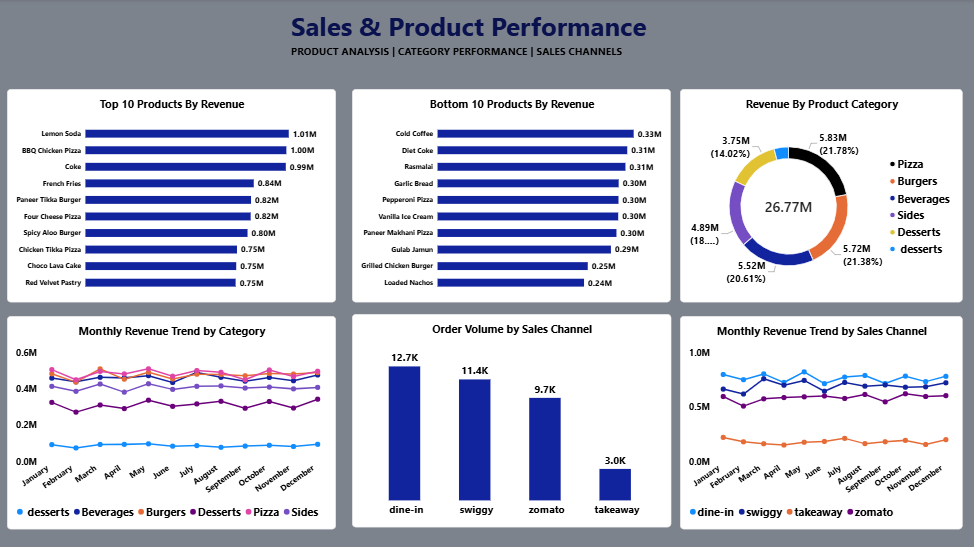

The page's visual inventory and layout, read from the dashboard file:
{"tool":"powerbi","page":{"name":"Sales & Product Analysis","canvas":[1920,1080],"ordinal":1},"visuals":[{"type":"clusteredBarChart","title":"Top 10 Products By Revenue","fields":{"Category":["products.product_name"],"Y":["order_items.Product Revenue"]},"box":[17.6,176.3,645.8,418.8],"z":0},{"type":"clusteredBarChart","title":"Bottom 10 Products By Revenue","fields":{"Category":["products.product_name"],"Y":["order_items.Product Revenue"]},"box":[694.3,176.3,626,418.8],"z":1000},{"type":"donutChart","title":"Revenue By Product Category","fields":{"Category":["products.category"],"Y":["order_items.Product Revenue"]},"box":[1340.1,176.3,555.4,418.8],"z":2000},{"type":"lineChart","title":"Monthly Revenue Trend by Category","fields":{"Category":["Calendar.Date.Variation.Date Hierarchy.Month"],"Series":["products.category"],"Y":["order_items.Product Revenue"]},"box":[17.6,621.6,646,419],"z":3000},{"type":"clusteredColumnChart","title":"Order Volume by Sales Channel","fields":{"Category":["orders.sales_channel"],"Y":["orders.Total Orders"]},"box":[694.3,619.3,627,419],"z":4000},{"type":"lineChart","title":"Monthly Revenue Trend by Sales Channel","fields":{"Category":["Calendar.Date.Variation.Date Hierarchy.Month"],"Series":["orders.sales_channel"],"Y":["orders.Total Revenue"]},"box":[1340.1,621.6,555,419],"z":5000},{"type":"textbox","title":"Sales & Product Performance","box":[575.4,17.6,769.2,97],"z":6000}]}

Visuals, with their boxes in screenshot pixels (x1, y1, x2, y2), scaled from the page's 1920x1080 canvas onto the 974x547 screenshot:
"Top 10 Products By Revenue" clusteredBarChart: [left=9, top=89, right=337, bottom=301]
"Bottom 10 Products By Revenue" clusteredBarChart: [left=352, top=89, right=670, bottom=301]
"Revenue By Product Category" donutChart: [left=680, top=89, right=962, bottom=301]
"Monthly Revenue Trend by Category" lineChart: [left=9, top=315, right=337, bottom=527]
"Order Volume by Sales Channel" clusteredColumnChart: [left=352, top=314, right=670, bottom=526]
"Monthly Revenue Trend by Sales Channel" lineChart: [left=680, top=315, right=961, bottom=527]
"Sales & Product Performance" textbox: [left=292, top=9, right=682, bottom=58]
